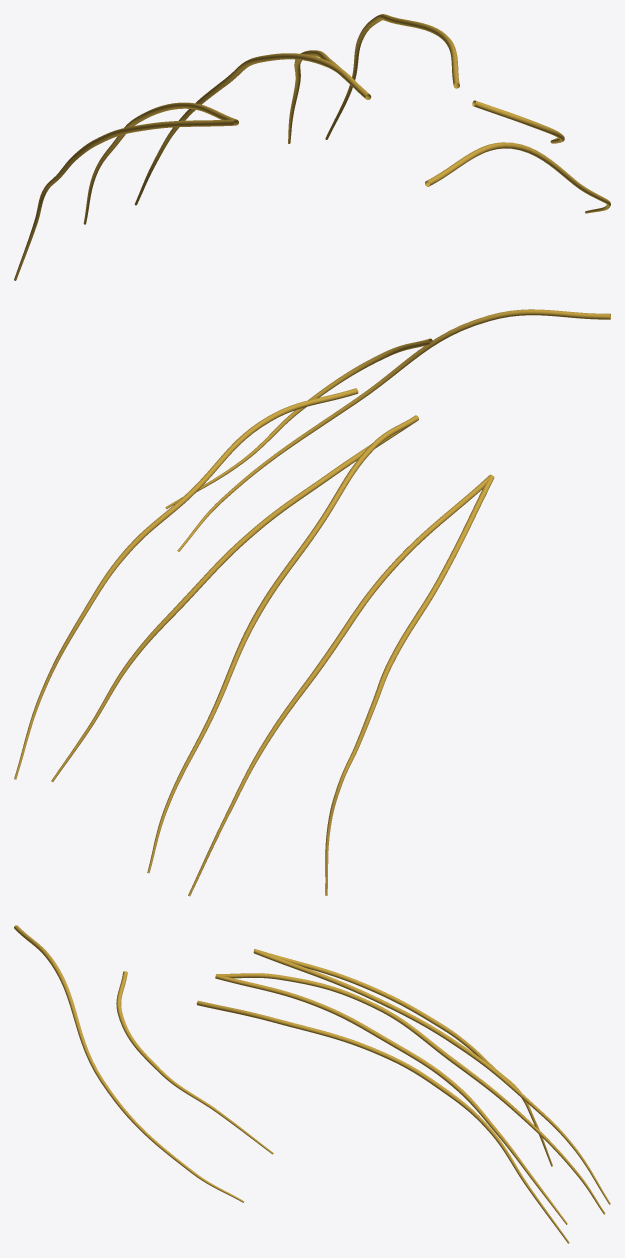
The picture shows the model from 3 angles, top to bottom: view 1: azimuth 30°, elevation 25°; view 2: azimuth 150°, elevation 25°; view 3: azimuth 270°, elevation 25°; orthographic projection. The views are drawn at different scales.
Visible parts, largest first — view 1: 左侧正中神经指掌侧固有神经; view 2: 左侧正中神经指掌侧固有神经; view 3: 左侧正中神经指掌侧固有神经.
Part boxes in pixels (x1,y1,x2,y2): 左侧正中神经指掌侧固有神经: [14, 14, 610, 280]; 左侧正中神经指掌侧固有神经: [14, 309, 610, 896]; 左侧正中神经指掌侧固有神经: [14, 925, 610, 1243].
Size of the model in its own units: 0.0987 by 0.09 by 0.186.
